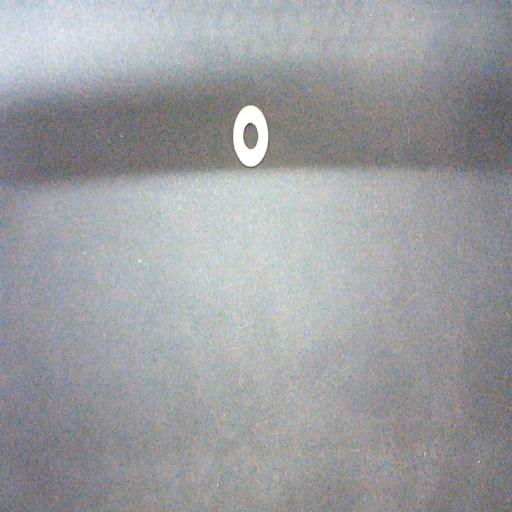washer: (233, 105, 268, 167)
